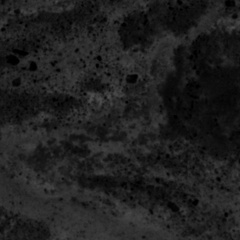Vegetation: (1, 126, 162, 170), (52, 193, 162, 240), (43, 40, 122, 83), (1, 173, 62, 217), (185, 162, 238, 210), (126, 39, 177, 72), (208, 6, 240, 37), (81, 90, 128, 111)
